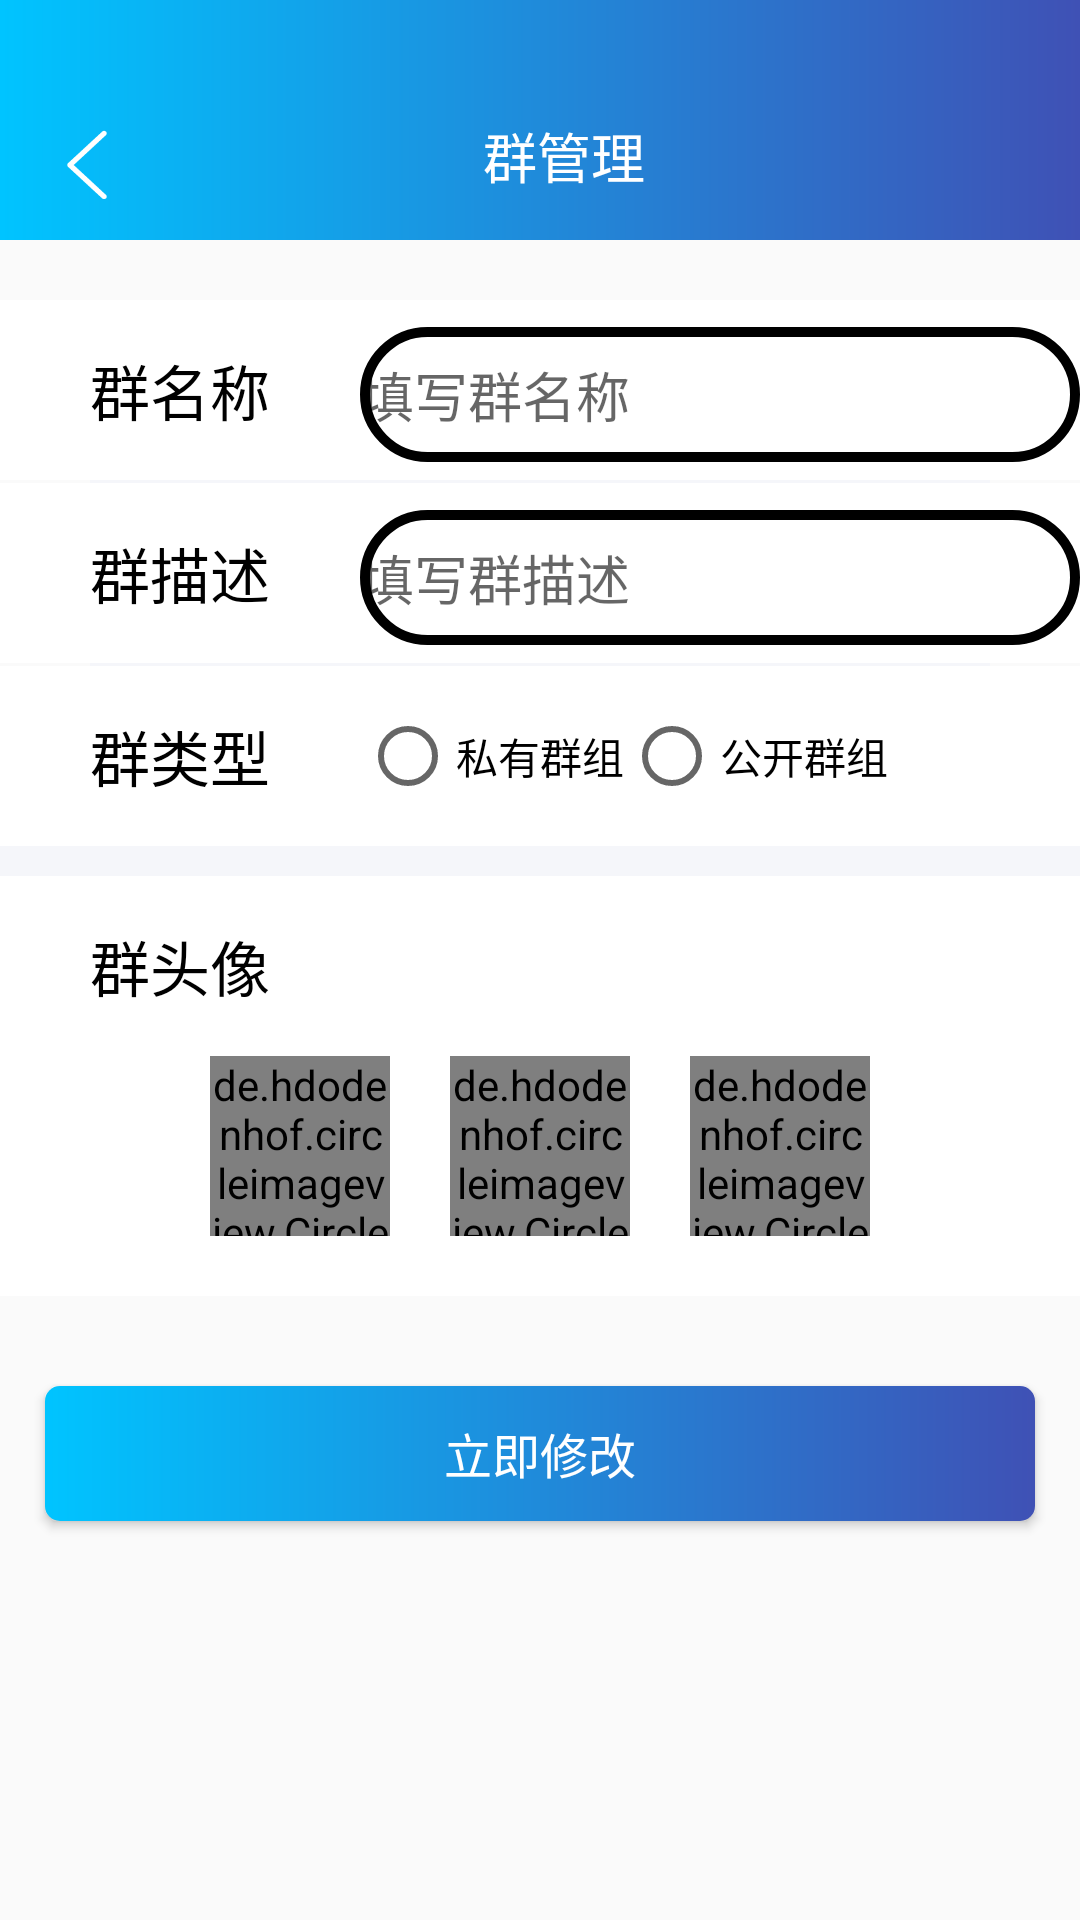

Icons on this 1080 x 1920 Android screen, each with its box as {"left": x1, "top": y1, "right": x2, "bottom": y2}:
back: {"left": 67, "top": 130, "right": 107, "bottom": 199}
